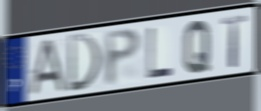A: (26, 37, 69, 98)
D: (66, 32, 103, 94)
L: (146, 25, 174, 81)
P: (103, 26, 143, 88)
Q: (182, 19, 212, 76)
T: (220, 13, 249, 70)
